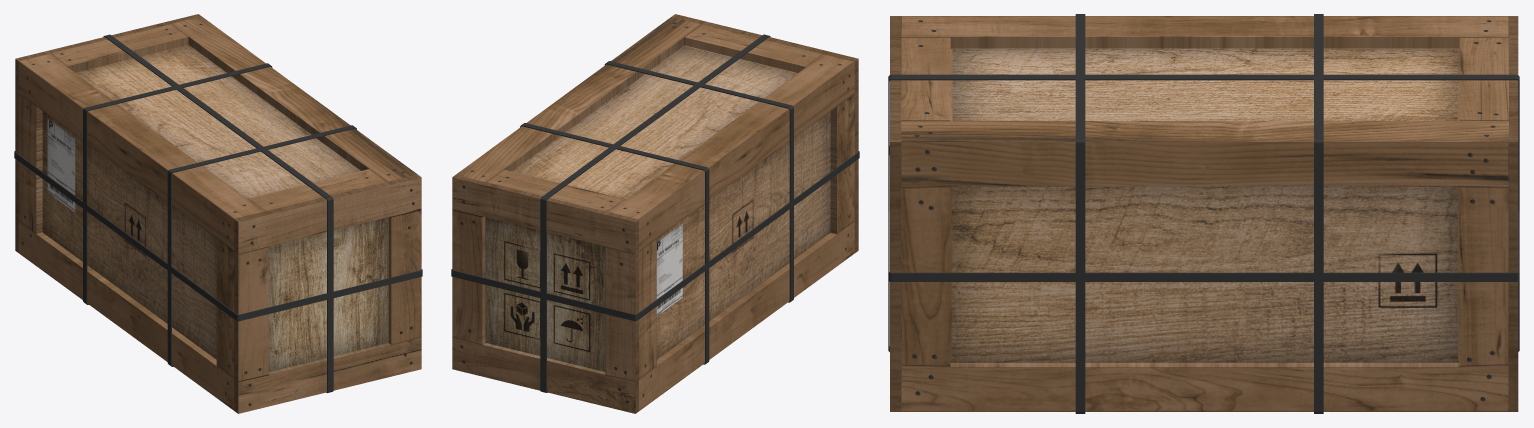
File: shippingBox.fbx
3 views of the same model, side by side, from view 1: azimuth 30°, elevation 25°; view 2: azimuth 150°, elevation 25°; view 3: azimuth 270°, elevation 25° (orthographic). The views are drawn at different scales.
Visible parts, largest first — view 1: Cube.006, Cube.009; view 2: Cube.006, Cube.009; view 3: Cube.006, Cube.009.
Part boxes in pixels (x1,y1,x2,y2): Cube.006: [15, 14, 421, 413]; Cube.009: [14, 34, 422, 392]; Cube.006: [452, 14, 858, 413]; Cube.009: [451, 34, 859, 392]; Cube.006: [890, 16, 1518, 411]; Cube.009: [888, 14, 1519, 413].
Bounding box in the file's own units: 205 × 206 × 429.
2 materials, 1 textured.
